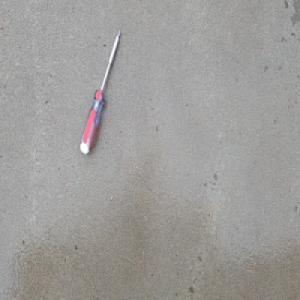Screwdriver: (79, 27, 122, 157)
